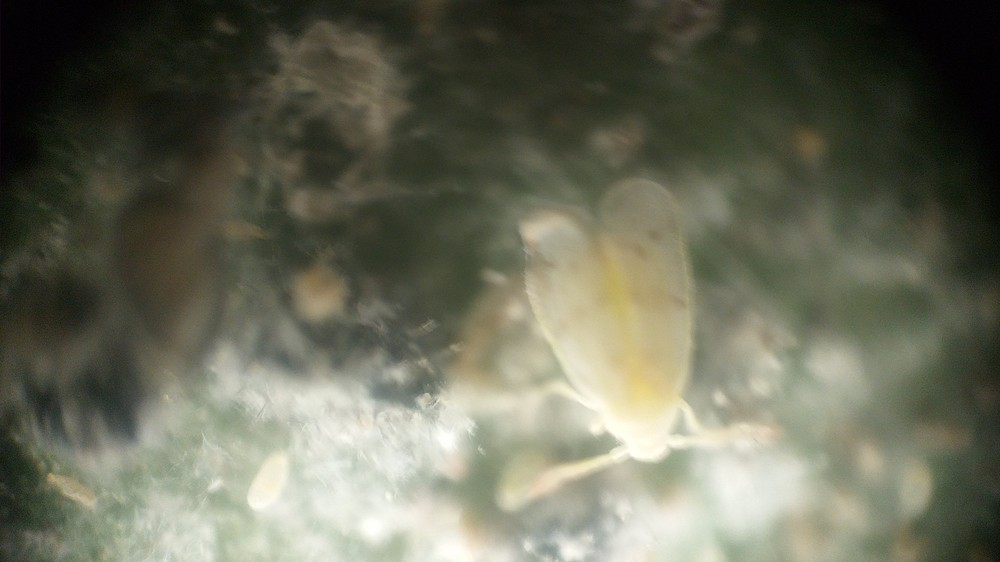Mosca Blanca: (468, 182, 829, 519)
